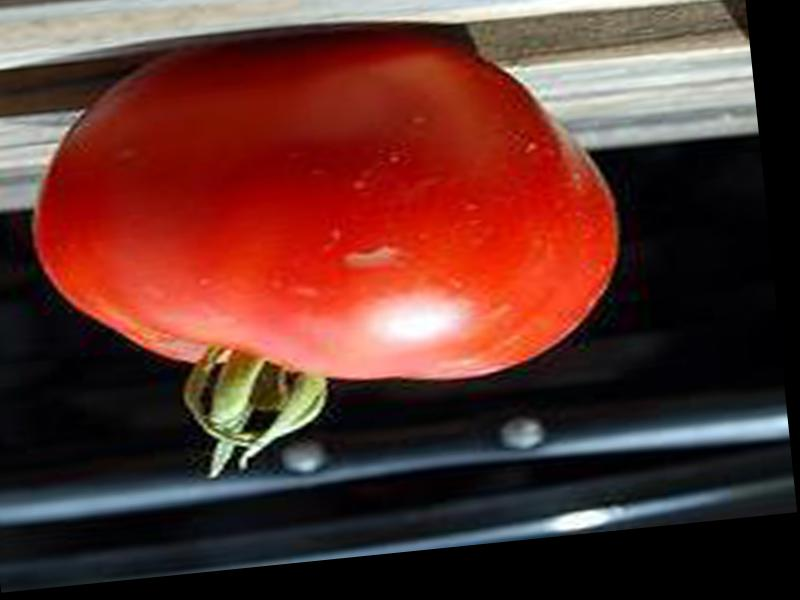Tomato: (19, 11, 637, 489)
